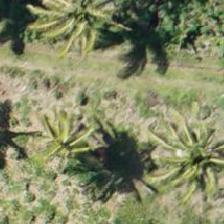coconut_tree: (25, 104, 115, 194), (153, 110, 223, 200)
